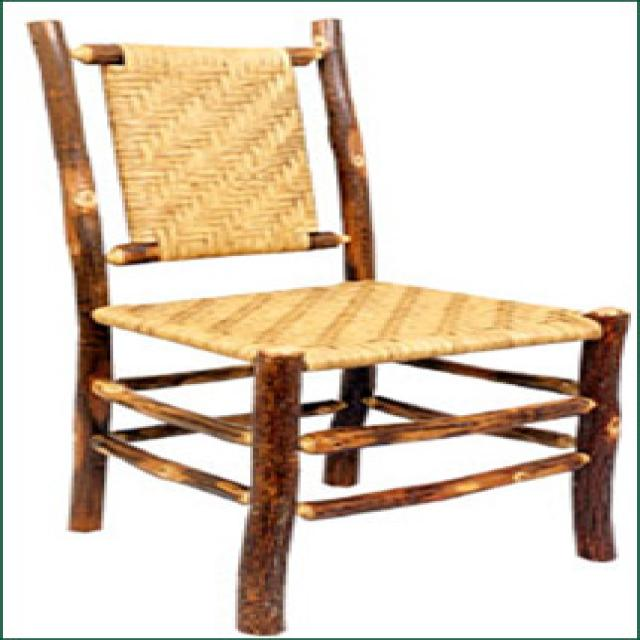chair: (24, 16, 628, 634)
